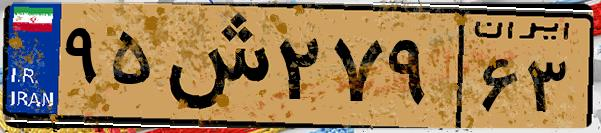2: (270, 28, 330, 110)
3: (525, 38, 570, 115)
5: (110, 28, 158, 98)
6: (475, 38, 525, 113)
7: (330, 28, 385, 110)
9: (385, 28, 445, 110), (57, 26, 110, 100)
ش: (158, 12, 270, 120)
